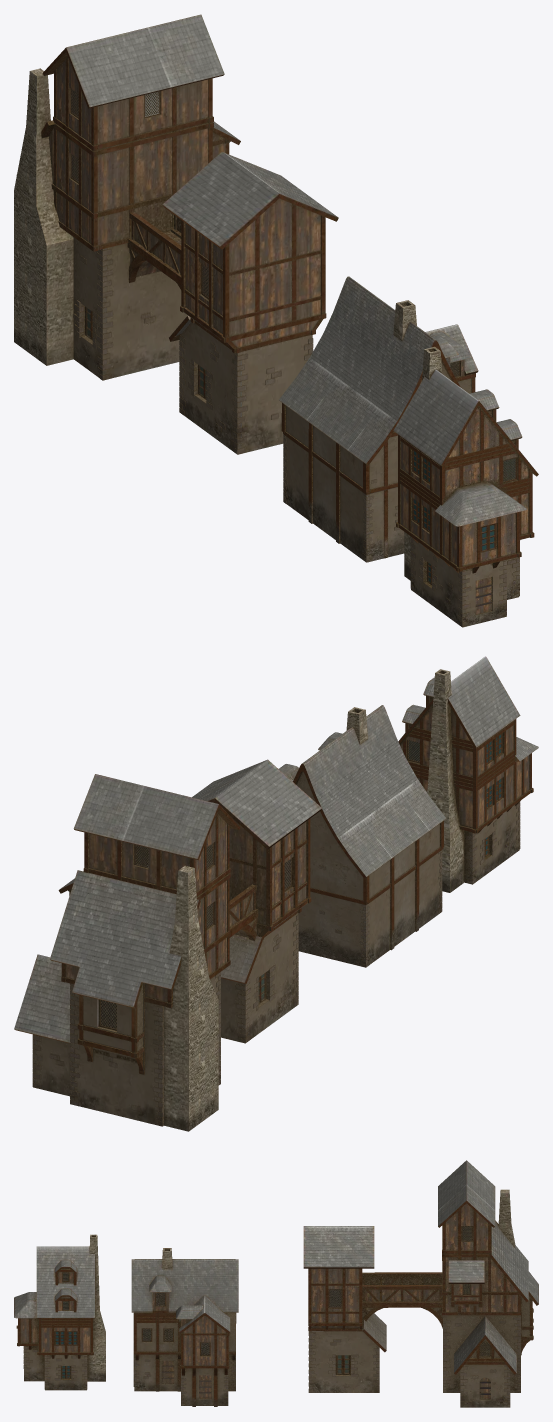
Rendered from medieval_houses_3_pack.glb.
3 views of the same model, one above another, from view 1: azimuth 30°, elevation 25°; view 2: azimuth 150°, elevation 25°; view 3: azimuth 270°, elevation 25° (orthographic). The views are drawn at different scales.
Parts seen in each view (by area): view 1: Object_4, Object_3, Object_2; view 2: Object_4, Object_3, Object_2; view 3: Object_4, Object_3, Object_2.
Part boxes in pixels (box(x1,y1,x2,y2)): Object_4: box(14, 14, 338, 454); Object_3: box(279, 276, 478, 562); Object_2: box(393, 346, 538, 627); Object_4: box(14, 759, 322, 1131); Object_3: box(279, 705, 446, 967); Object_2: box(398, 656, 538, 892); Object_4: box(303, 1160, 538, 1407); Object_3: box(131, 1248, 238, 1406); Object_2: box(14, 1234, 105, 1390).
Bounding box in the file's own units: 6.45 × 10.38 × 24.98.
Materials: 3 (3 with a texture image).
